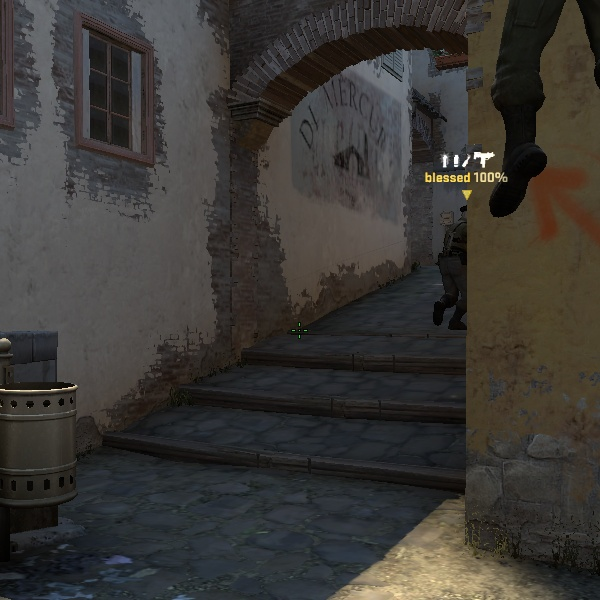t_body: (423, 205, 474, 333)
